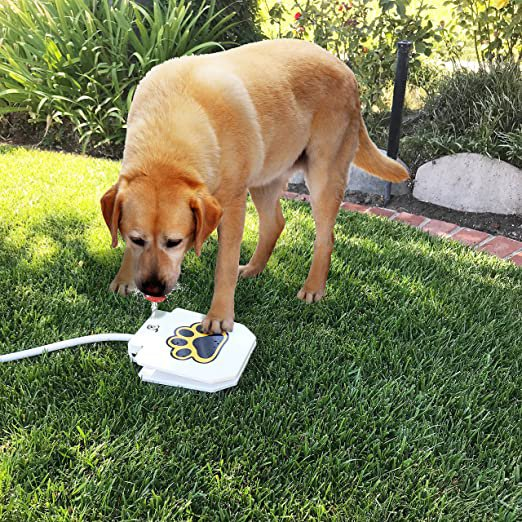dog: (100, 36, 395, 310)
